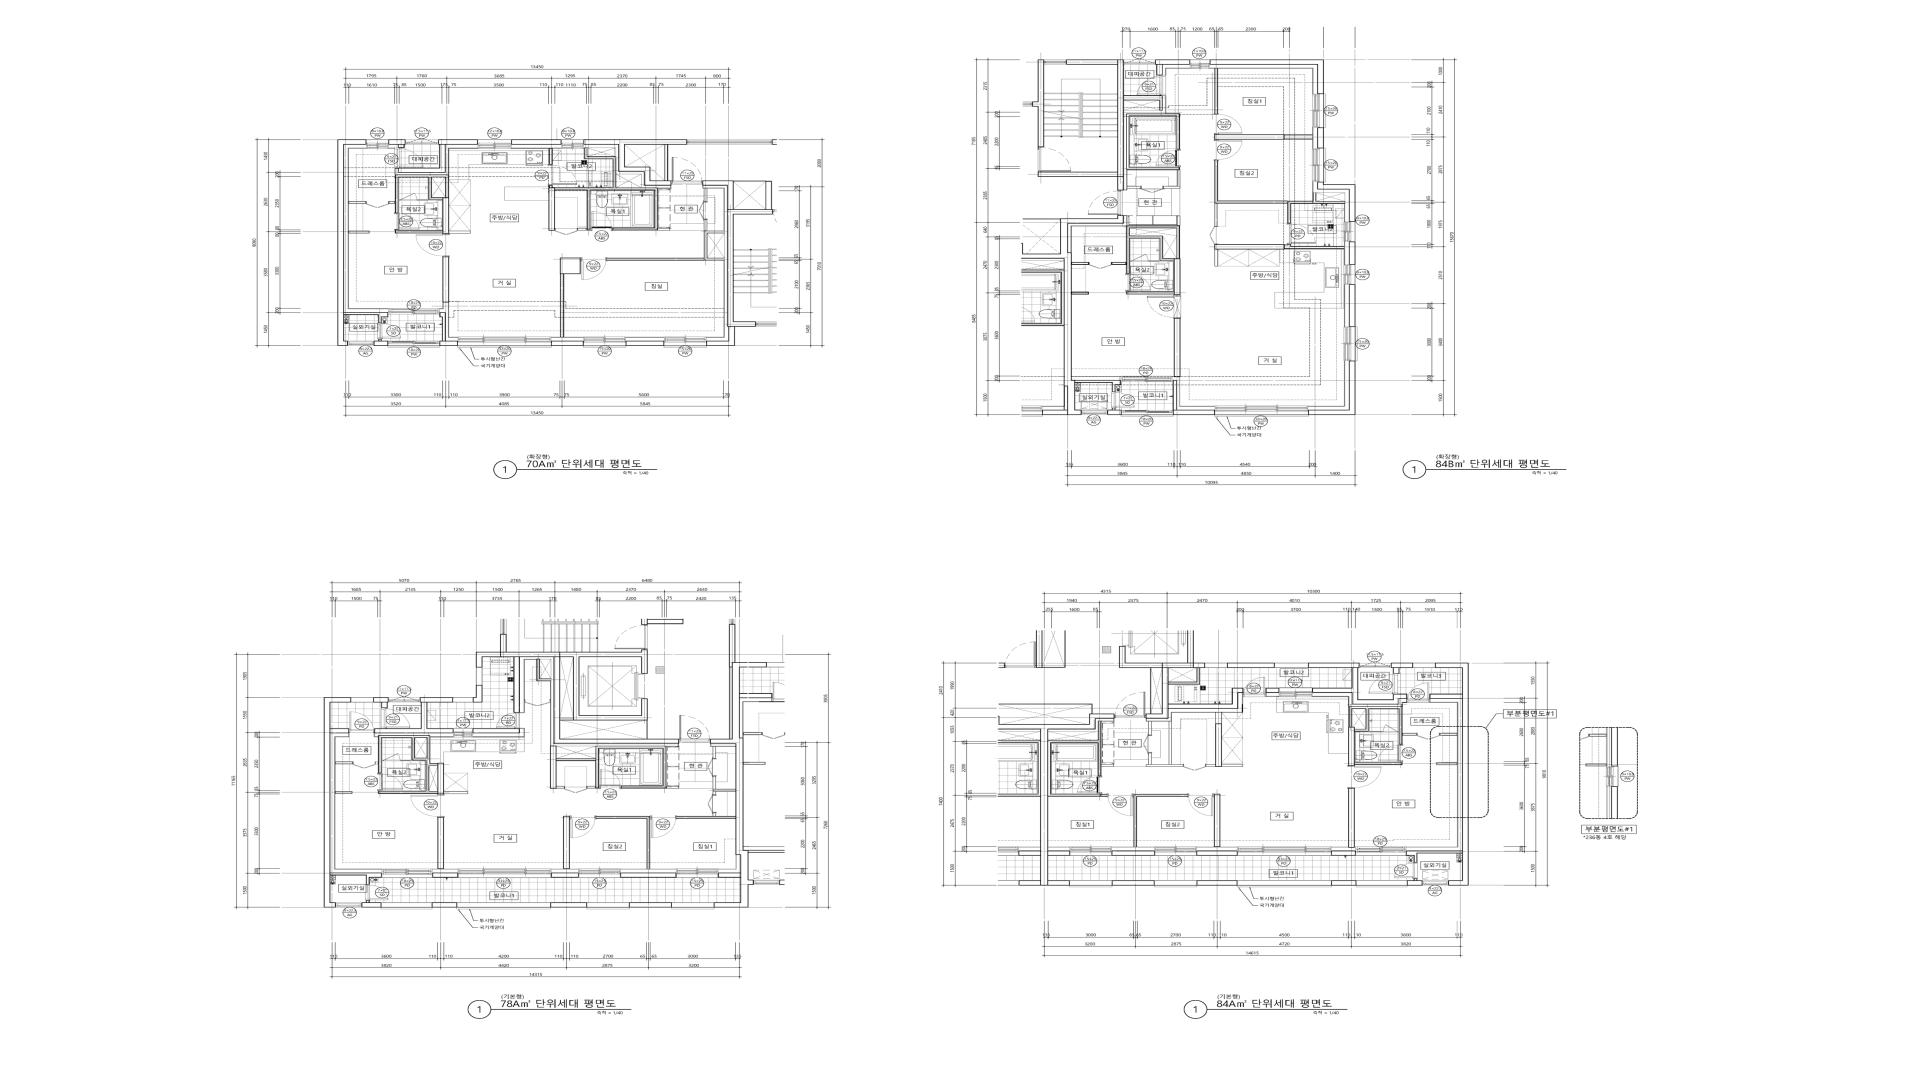door: (679, 715, 711, 741), (671, 157, 703, 183), (615, 625, 647, 650), (1088, 190, 1121, 215), (410, 794, 444, 818), (1114, 692, 1146, 717), (1147, 295, 1180, 319), (1038, 148, 1071, 171), (415, 233, 448, 257), (1349, 766, 1382, 789), (549, 165, 578, 186), (1369, 674, 1399, 694), (650, 816, 676, 839), (1108, 794, 1134, 816), (1188, 794, 1215, 816), (1288, 223, 1316, 244), (1215, 140, 1242, 161), (1215, 113, 1242, 135), (381, 708, 410, 728), (1137, 75, 1166, 95), (394, 148, 423, 167), (348, 712, 375, 733), (570, 816, 596, 837), (580, 258, 607, 280), (599, 769, 621, 789), (591, 211, 613, 231), (1244, 676, 1266, 696), (1407, 683, 1429, 703), (1156, 149, 1180, 167), (1126, 274, 1151, 291), (1378, 745, 1403, 762), (378, 774, 402, 791), (1077, 777, 1101, 794), (1112, 392, 1134, 407), (378, 323, 401, 339), (1395, 862, 1418, 878), (496, 713, 520, 728), (367, 885, 388, 901), (525, 699, 550, 705), (352, 762, 376, 769), (365, 202, 389, 208), (1416, 733, 1440, 740), (564, 786, 587, 793), (1089, 262, 1112, 269), (1141, 186, 1163, 193), (555, 228, 578, 235), (708, 758, 716, 777), (699, 202, 707, 220), (1143, 735, 1151, 753), (382, 753, 400, 761), (708, 795, 716, 812), (400, 193, 417, 200), (1209, 227, 1217, 244), (1183, 765, 1207, 770), (1130, 255, 1149, 261), (1383, 725, 1399, 732)
wall: (676, 624, 749, 907), (476, 650, 679, 744), (607, 186, 728, 342), (1038, 59, 1163, 190), (520, 657, 679, 746), (1406, 663, 1469, 886), (1040, 713, 1114, 886), (1060, 215, 1124, 415), (323, 698, 381, 907), (703, 181, 773, 345), (338, 140, 388, 345), (555, 145, 671, 231), (1120, 646, 1244, 719), (1406, 699, 1462, 851), (1215, 161, 1345, 223), (1146, 692, 1244, 766), (330, 733, 381, 873), (550, 746, 666, 789), (1112, 225, 1180, 295), (584, 140, 687, 186), (1308, 663, 1407, 704), (1124, 95, 1166, 190), (1209, 59, 1324, 94), (378, 736, 443, 794), (1349, 707, 1403, 766), (1211, 65, 1317, 94), (1126, 113, 1180, 170), (394, 140, 477, 175), (1134, 794, 1188, 847), (596, 816, 650, 869), (375, 698, 454, 733), (1308, 361, 1356, 415), (1068, 215, 1127, 253), (389, 175, 448, 214), (551, 274, 583, 342), (1308, 361, 1349, 410), (1317, 182, 1356, 222), (1172, 380, 1215, 415), (1312, 182, 1349, 222), (1172, 377, 1215, 410), (1312, 694, 1407, 707), (1033, 59, 1044, 148), (512, 145, 562, 165), (1048, 719, 1114, 732), (439, 302, 458, 342), (1215, 244, 1345, 249), (439, 313, 458, 345), (1155, 59, 1191, 75), (1215, 135, 1312, 140), (472, 728, 525, 737), (707, 233, 725, 258), (717, 855, 740, 873), (713, 777, 736, 795), (1174, 318, 1180, 377), (1168, 669, 1197, 682), (709, 744, 736, 758), (563, 816, 570, 869), (438, 818, 444, 869), (560, 257, 580, 274), (1163, 170, 1180, 189), (1349, 789, 1354, 848), (375, 733, 454, 737), (537, 659, 551, 680), (620, 873, 676, 878), (549, 186, 555, 231), (1163, 65, 1191, 75), (1352, 709, 1366, 729), (1349, 285, 1356, 327), (1216, 724, 1222, 766), (1215, 794, 1220, 847), (641, 618, 683, 625), (587, 148, 616, 157), (512, 140, 562, 145), (1228, 663, 1275, 669), (472, 728, 520, 733), (1391, 663, 1414, 674), (443, 257, 448, 302), (1112, 851, 1155, 856), (620, 869, 676, 873), (1112, 881, 1154, 886), (629, 902, 671, 907), (1344, 285, 1349, 327), (1196, 851, 1237, 856), (1197, 881, 1237, 886), (394, 229, 443, 233), (729, 667, 732, 738), (551, 902, 587, 907), (443, 198, 448, 233), (472, 686, 483, 703), (1215, 69, 1218, 113), (1112, 847, 1155, 851), (373, 698, 389, 708), (1196, 847, 1237, 851), (1349, 241, 1356, 265), (626, 338, 663, 342), (626, 342, 663, 345), (551, 873, 579, 878), (1317, 128, 1324, 149), (433, 873, 458, 878), (361, 901, 381, 907), (1072, 377, 1121, 380), (1332, 881, 1356, 886), (1407, 878, 1423, 886), (433, 902, 456, 907), (551, 342, 583, 345), (1344, 241, 1349, 265), (389, 140, 405, 148), (1332, 851, 1356, 856), (1312, 128, 1317, 149), (551, 869, 579, 873), (1108, 407, 1121, 415), (433, 869, 458, 873), (373, 339, 388, 345), (665, 145, 667, 181), (1332, 847, 1356, 851), (1048, 847, 1069, 851), (1215, 249, 1218, 266), (443, 791, 468, 794), (1215, 203, 1217, 227), (448, 231, 471, 233), (1150, 669, 1151, 713), (348, 231, 369, 233), (1266, 692, 1279, 696), (1266, 688, 1279, 692), (348, 202, 365, 204), (733, 181, 766, 182), (389, 145, 398, 149), (1403, 733, 1416, 736), (666, 786, 679, 789), (560, 717, 574, 720), (1222, 765, 1244, 766), (587, 786, 596, 789), (1178, 216, 1180, 225), (556, 786, 564, 789), (1101, 765, 1114, 766), (400, 760, 411, 761), (417, 199, 427, 200), (1207, 765, 1216, 766), (713, 812, 716, 816), (376, 762, 378, 765), (1149, 261, 1159, 261), (1370, 732, 1383, 732)
window: (458, 338, 551, 348), (1215, 406, 1308, 417), (1237, 847, 1332, 856), (458, 869, 551, 878), (456, 903, 551, 910), (1237, 881, 1332, 887), (381, 869, 433, 878), (1356, 847, 1406, 856), (583, 338, 626, 348), (663, 338, 707, 348), (1312, 94, 1325, 128), (1344, 327, 1357, 361), (1312, 149, 1325, 182), (676, 869, 719, 878), (1069, 847, 1112, 856), (579, 869, 620, 878), (1155, 847, 1196, 856), (388, 342, 440, 348), (1121, 410, 1174, 417), (671, 902, 715, 910), (381, 903, 433, 910), (1356, 881, 1407, 887), (587, 902, 629, 910), (477, 140, 512, 149), (1154, 881, 1197, 887), (1069, 881, 1112, 887), (1121, 377, 1172, 382), (388, 309, 439, 314), (1279, 688, 1312, 696), (1344, 222, 1356, 241), (1344, 265, 1356, 285), (405, 138, 438, 145), (388, 696, 419, 703), (1124, 58, 1155, 65), (562, 140, 584, 149), (367, 140, 389, 149), (1191, 59, 1211, 69), (1275, 663, 1308, 669), (454, 728, 472, 737), (1360, 662, 1391, 667), (335, 902, 361, 907), (1081, 410, 1108, 415), (476, 667, 483, 686), (351, 698, 373, 703), (1044, 59, 1067, 65), (452, 698, 472, 703), (348, 342, 373, 345), (1423, 881, 1448, 885), (1205, 663, 1228, 667), (1414, 663, 1435, 667)
